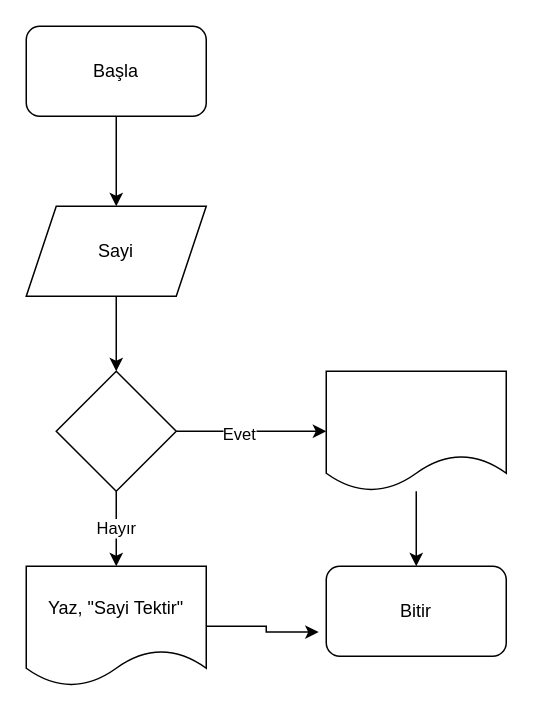
Image size: 533x713. Some labels were removed from this diagram. Each missing label, with the box of its shape:
Sayi%==0: (55, 370, 176, 491)
Yaz, "Sayı Cifttir": (325, 370, 506, 491)
